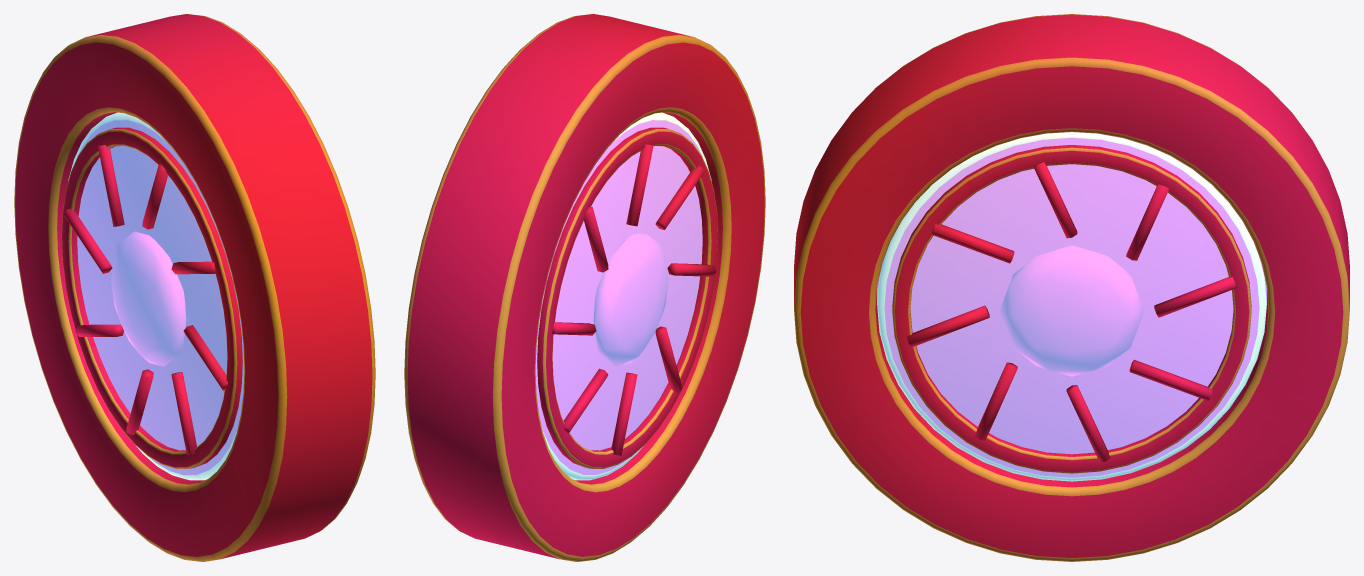
The model's file is SM_Core.fbx.
The picture shows the model from 3 angles, left to right: view 1: azimuth 30°, elevation 25°; view 2: azimuth 150°, elevation 25°; view 3: azimuth 270°, elevation 25°; orthographic projection. The views are drawn at different scales.
Visible parts, largest first — view 1: SM_Core; view 2: SM_Core; view 3: SM_Core.
Part boxes in pixels (box(x1,y1,x2,y2)): SM_Core: box(14, 14, 375, 561); SM_Core: box(404, 14, 765, 561); SM_Core: box(794, 14, 1349, 561).
Size of the model in its own units: 18.4 by 4.84 by 18.4.
